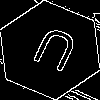U: (25, 25, 82, 82)
